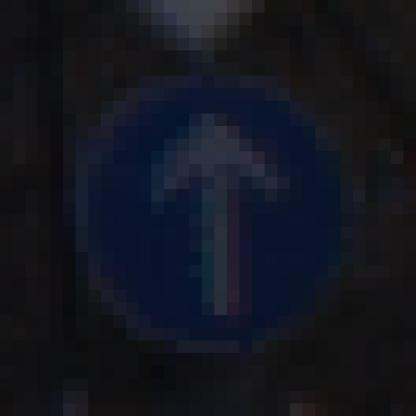AheadOnly: (77, 64, 354, 354)
